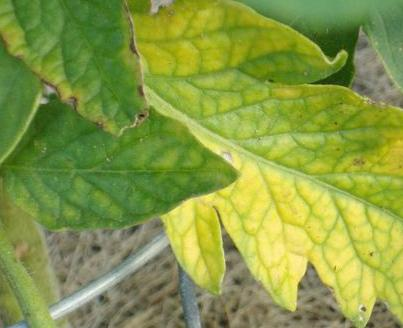Tomato mold leaf: (121, 0, 403, 328), (0, 102, 237, 237), (0, 0, 157, 141)
